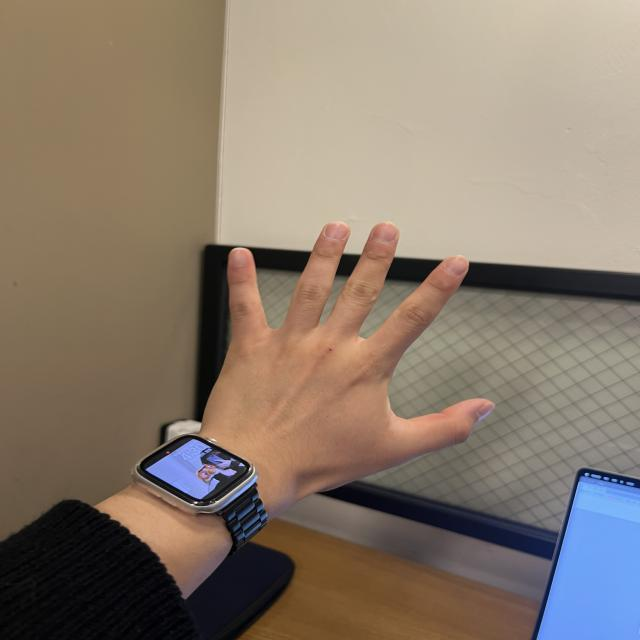Nail: (374, 223, 398, 242), (325, 222, 350, 240), (445, 257, 468, 275), (477, 403, 495, 420), (230, 249, 248, 265)
